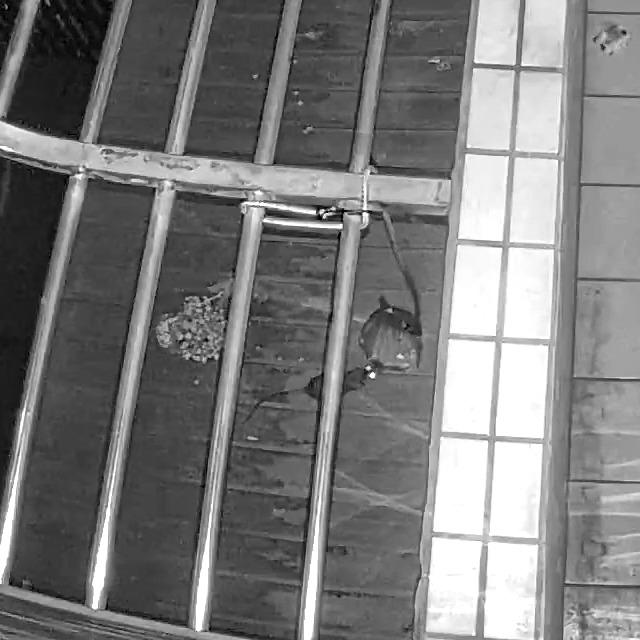rat: (239, 360, 382, 426)
